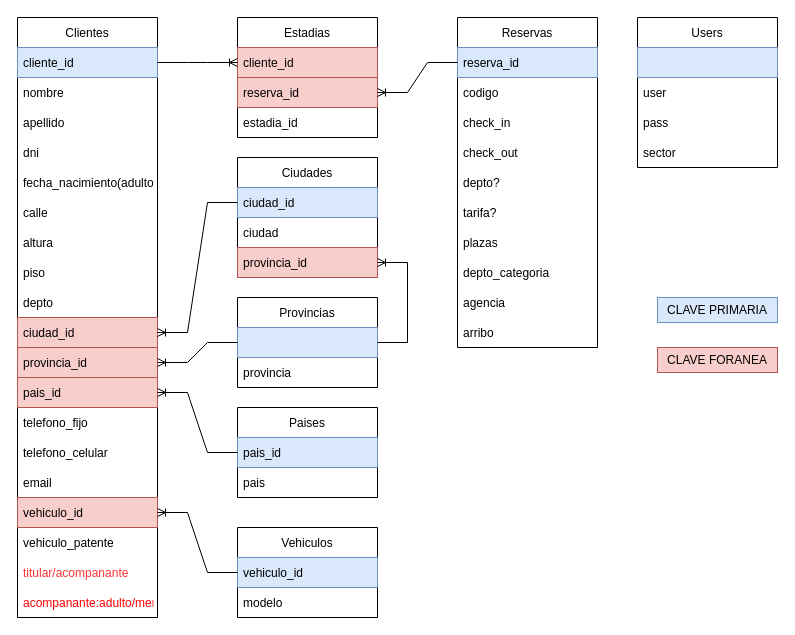
Image size: 795x635. Some labels were removed from this diagram. Here are the shapes that lost their labels. From the top down, the centre of each, then its label:
At pixel 707 62: "user_id".
At pixel 307 342: "proincia_id".
